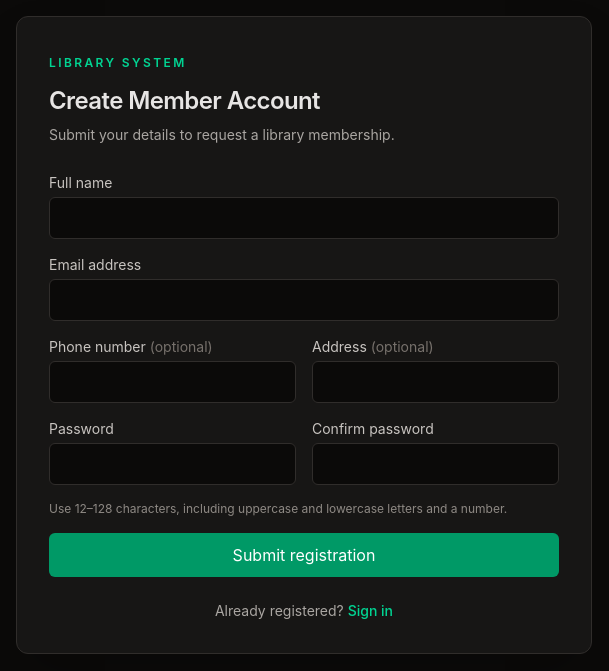
Test: member registration page › submits valid details and shows the pending approval confirmation
Type "Alex Member" into the field labelled "Full name" at (304,218), box [49,197,559,239]
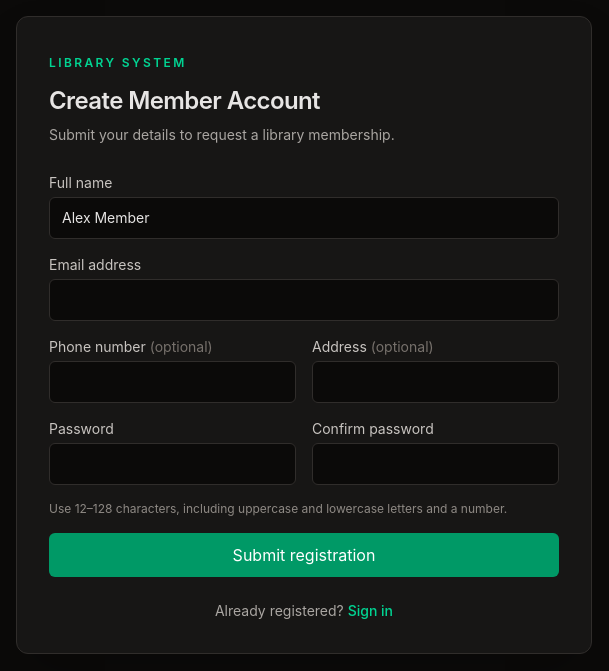
Type "alex@example.com" into the field labelled "Email address" at (304,300), box [49,279,559,321]
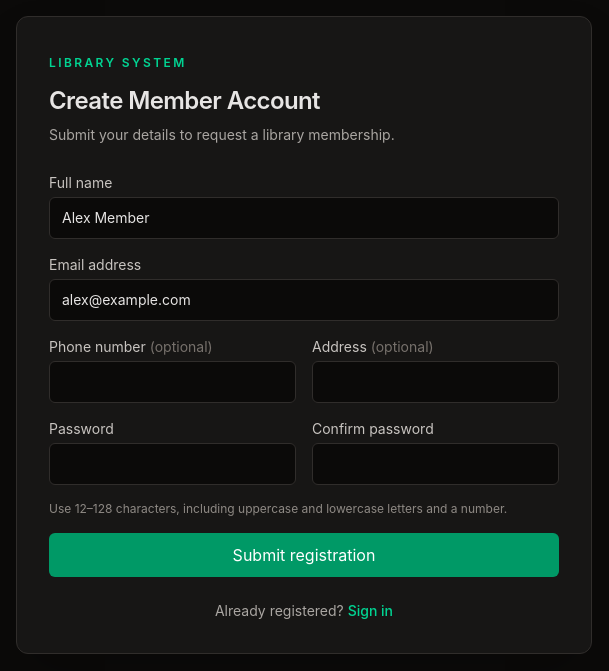
Type "LibraryPassword2026" into the password field labelled "Password" at (172,464), box [49,443,296,485]
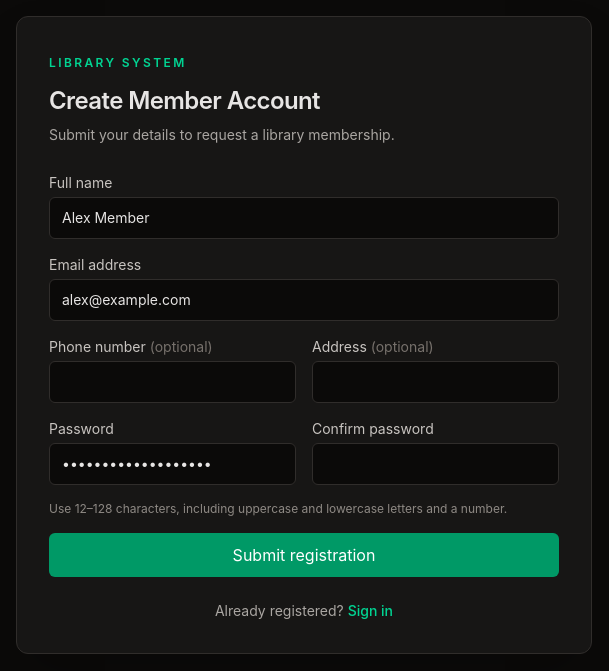
Type "LibraryPassword2026" into the password field labelled "Confirm password" at (436,464), box [312,443,559,485]
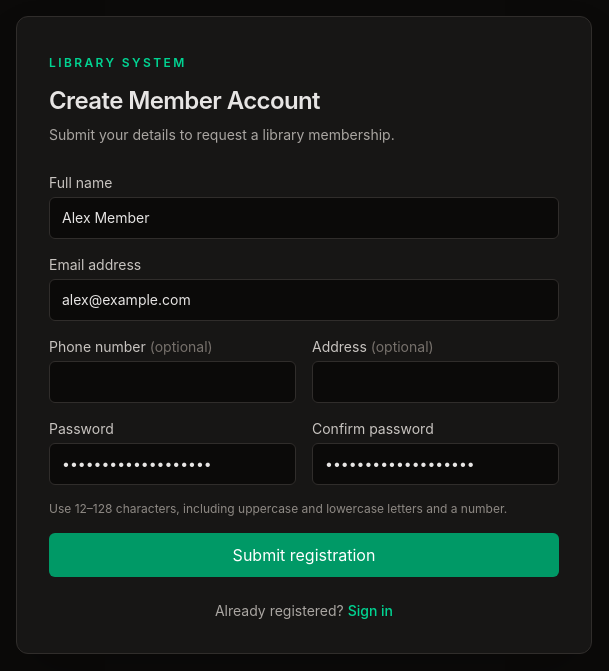
Click the button "Submit registration" at (304,555), box [49,533,559,577]
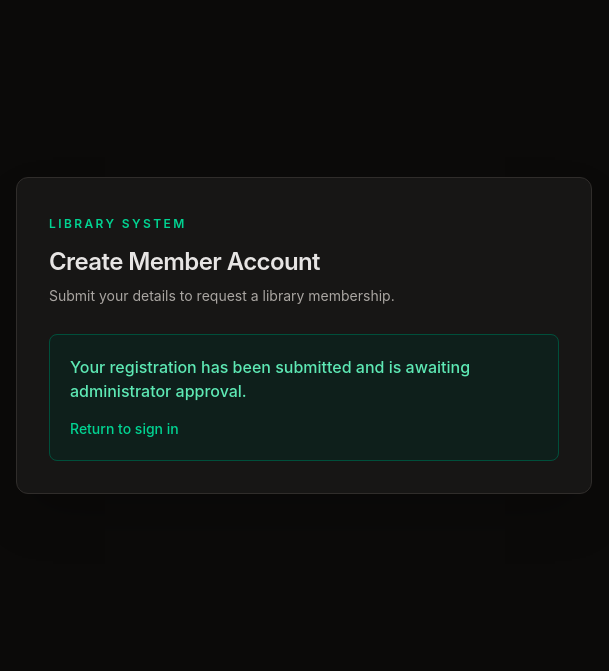
Now the text "Your registration has been submitted and is awaiting administrator approval." is shown, box [70,354,538,402]
